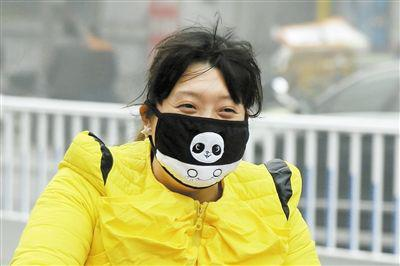OK: (150, 86, 251, 187)
